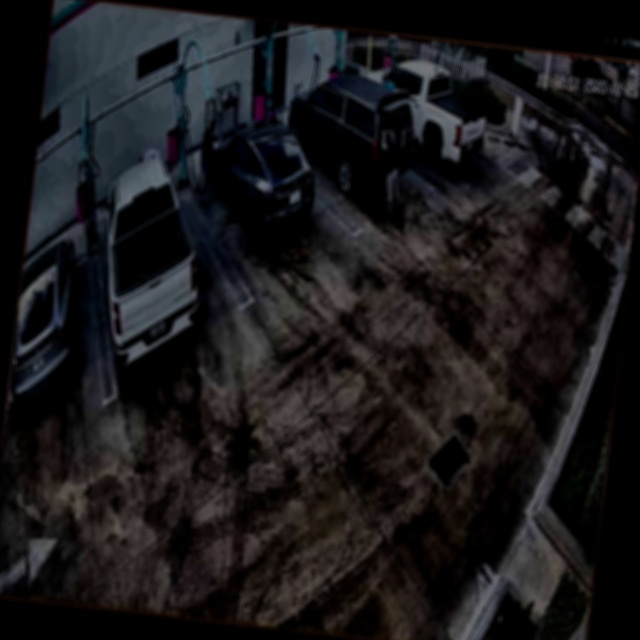Car: (87, 149, 216, 375), (280, 75, 421, 201), (201, 113, 323, 251), (355, 57, 491, 173)
